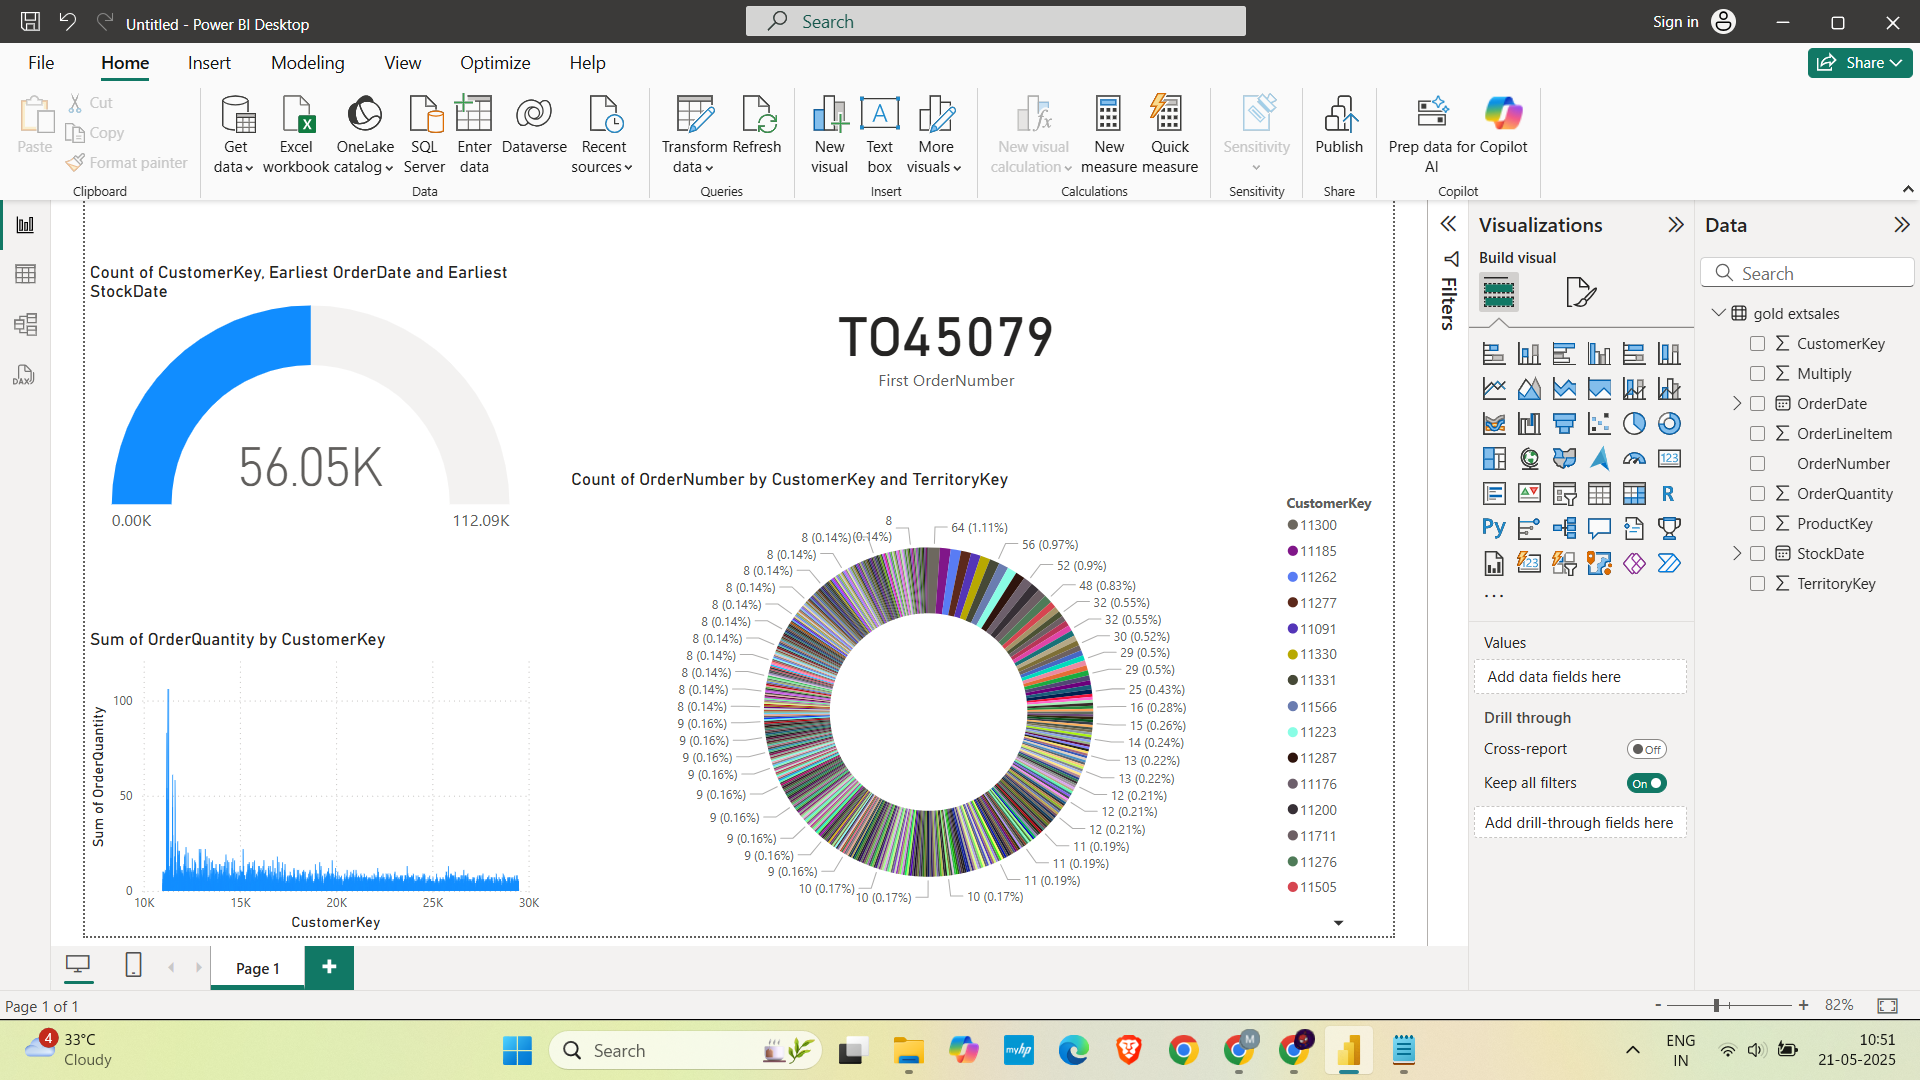

Layout of this report page (visuals, bound fields, positions):
{"tool":"powerbi","page":{"name":"Page 1","canvas":[1280,720],"ordinal":0},"visuals":[{"type":"card","fields":{"Values":["Min(gold extsales.OrderNumber)"]},"box":[654.2,25.7,376.6,223.8],"z":0},{"type":"ribbonChart","fields":{"Y":["Sum(gold extsales.OrderQuantity)"],"Category":["gold extsales.CustomerKey"]},"box":[0,403.5,506.3,316.7],"z":1},{"type":"gauge","fields":{"Y":["CountNonNull(gold extsales.CustomerKey)"]},"box":[0,60.4,441.9,274.4],"z":2},{"type":"donutChart","fields":{"Category":["gold extsales.CustomerKey"],"Y":["CountNonNull(gold extsales.OrderNumber)"],"Series":["gold extsales.TerritoryKey"]},"box":[470.8,262.9,809.5,457.3],"z":3}]}

Visuals, with their boxes on the page's 1280x720 design canvas (x1, y1, x2, y2). These are canvas units, not pixel positions in the 1920x1080 screenshot, which may show the page scaled, cropped or inside an application window:
card - Min(gold extsales.OrderNumber): rect(654, 26, 1031, 250)
ribbonChart - Sum(gold extsales.OrderQuantity) x gold extsales.CustomerKey: rect(0, 404, 506, 720)
gauge - CountNonNull(gold extsales.CustomerKey): rect(0, 60, 442, 335)
donutChart - gold extsales.CustomerKey x CountNonNull(gold extsales.OrderNumber): rect(471, 263, 1280, 720)
